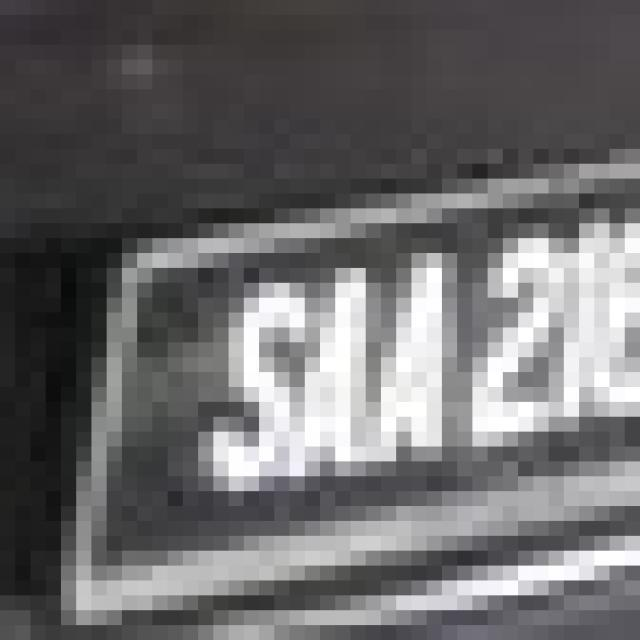licenseplate: (30, 134, 640, 621)
